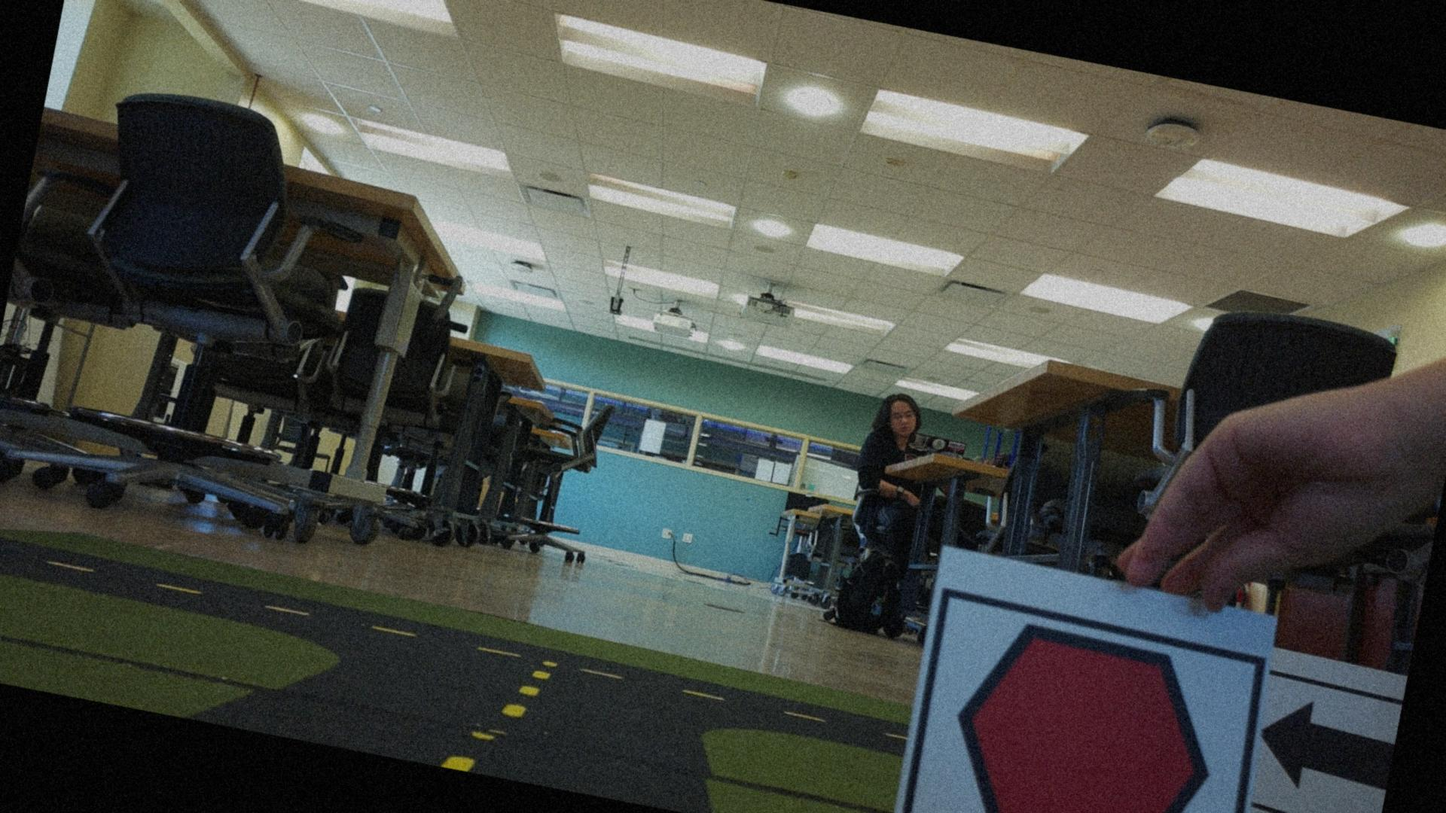stop: (914, 598, 1246, 812)
turnright: (1248, 681, 1401, 812)
yellowline: (440, 654, 548, 783)
